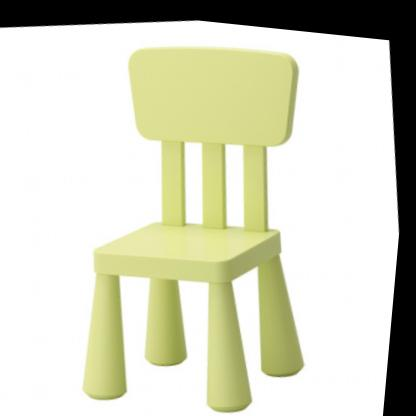Chair: (33, 11, 357, 416)
